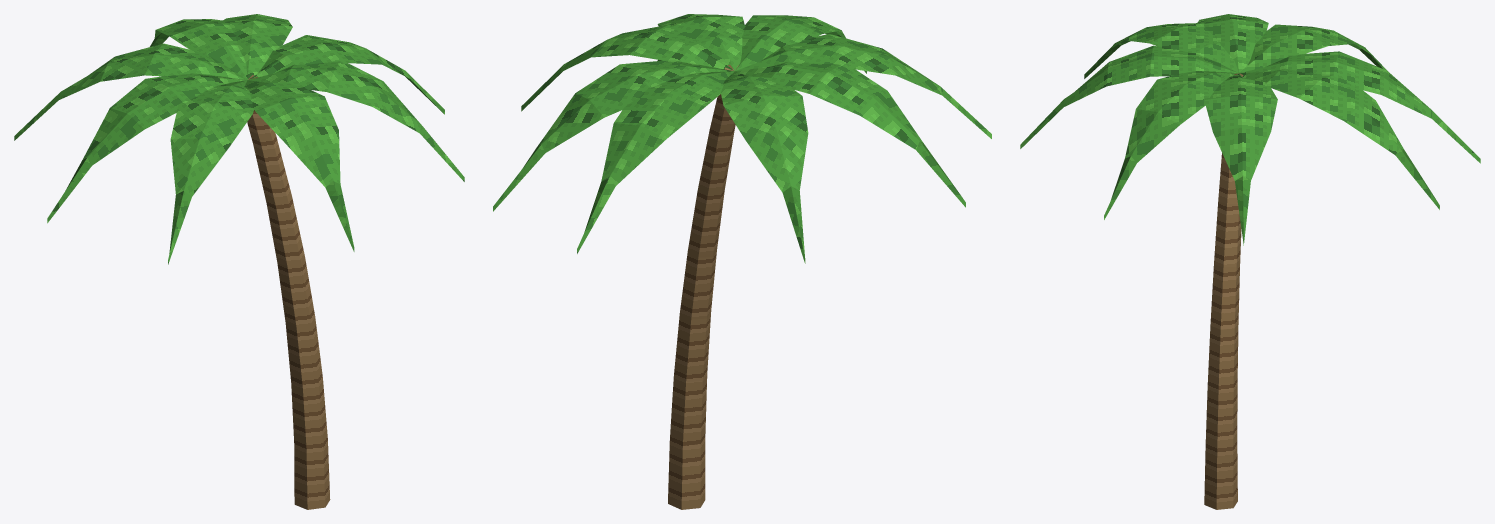
The model's file is palm0.glb.
The picture shows the model from 3 angles, left to right: view 1: azimuth 30°, elevation 25°; view 2: azimuth 150°, elevation 25°; view 3: azimuth 270°, elevation 25°; orthographic projection. The views are drawn at different scales.
Parts seen in each view (by area): view 1: palm0; view 2: palm0; view 3: palm0.
Part boxes in pixels (<box>): palm0: <box>14,14,464,509</box>; palm0: <box>493,14,991,509</box>; palm0: <box>1020,14,1480,509</box>.
Size of the model in its own units: 6.66 by 6.92 by 6.87.
3 materials, 2 textured.
